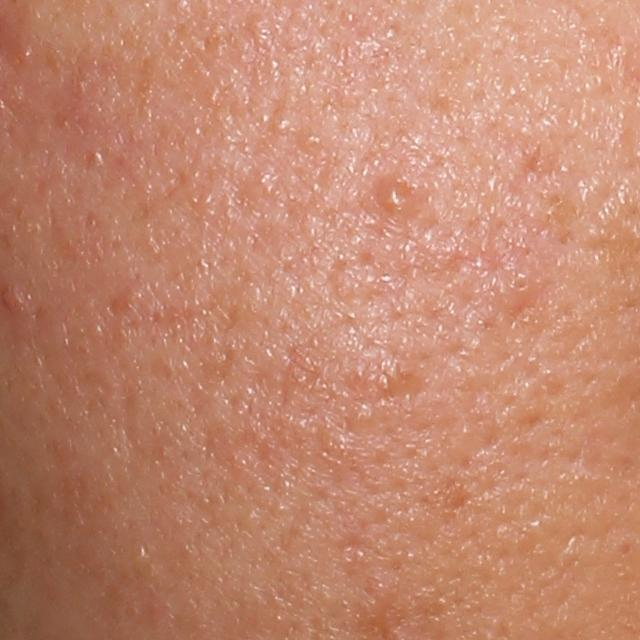comedo: (498, 265, 533, 298), (267, 112, 293, 134)
papule: (372, 169, 425, 222)
